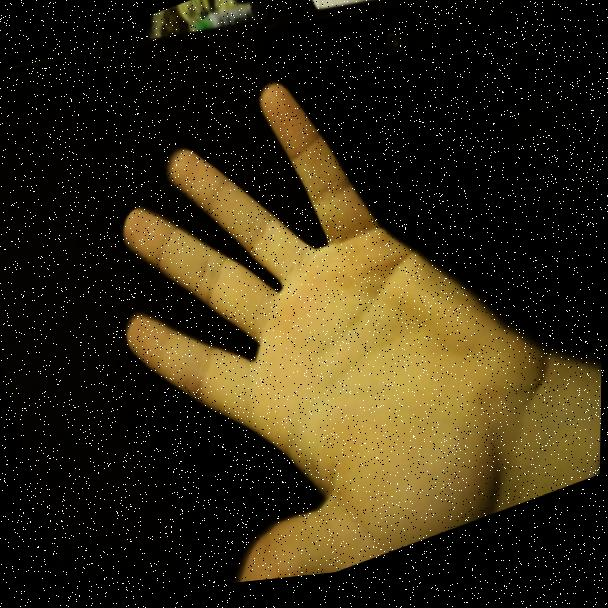five: (72, 29, 518, 602)
